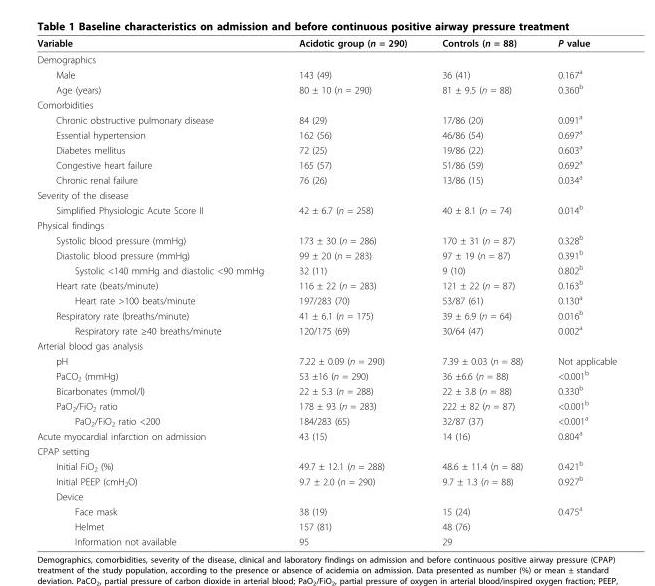table: (36, 36, 616, 546)
table column: (36, 36, 280, 546), (280, 36, 423, 546), (423, 36, 539, 546), (539, 36, 616, 546)
table column header: (36, 36, 616, 50)
table projected row header: (36, 50, 616, 66), (36, 337, 616, 353), (36, 96, 616, 111), (36, 187, 616, 201), (36, 217, 616, 231), (36, 443, 616, 457), (36, 488, 616, 502)
table row: (36, 50, 616, 66), (36, 171, 616, 187), (36, 201, 616, 217), (36, 276, 616, 292), (36, 337, 616, 353), (36, 427, 616, 443), (36, 457, 616, 473), (36, 502, 616, 518), (36, 66, 616, 81), (36, 81, 616, 96), (36, 96, 616, 111), (36, 111, 616, 126), (36, 126, 616, 141), (36, 141, 616, 156), (36, 156, 616, 171), (36, 231, 616, 246), (36, 246, 616, 261), (36, 261, 616, 276), (36, 292, 616, 307), (36, 307, 616, 322), (36, 322, 616, 337), (36, 367, 616, 382), (36, 382, 616, 397), (36, 397, 616, 412), (36, 412, 616, 427), (36, 473, 616, 488), (36, 518, 616, 533), (36, 36, 616, 50), (36, 187, 616, 201), (36, 217, 616, 231), (36, 353, 616, 367), (36, 443, 616, 457), (36, 488, 616, 502), (36, 533, 616, 546)
